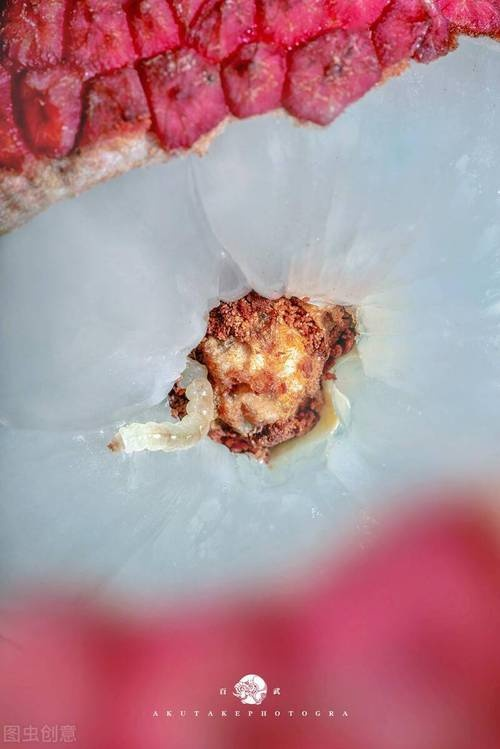Borer: (129, 350, 218, 472)
